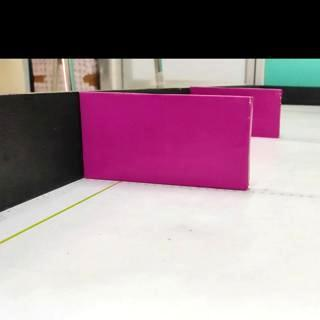xparking: (88, 94, 249, 188), (256, 88, 280, 136)
